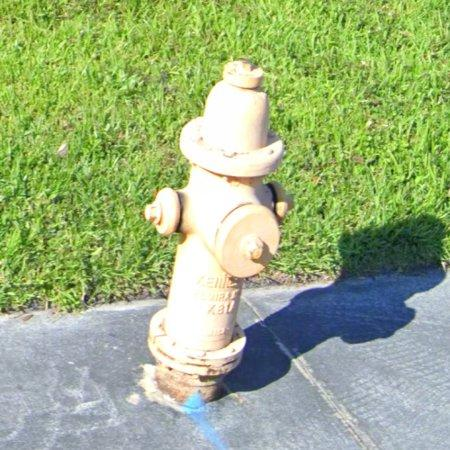a fire hydrant: (145, 60, 292, 400)
